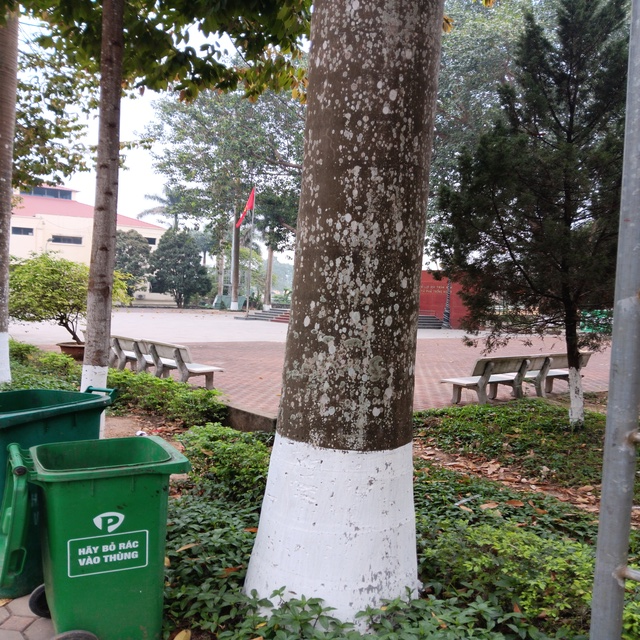thungrac: (24, 432, 188, 640), (1, 367, 99, 600)
